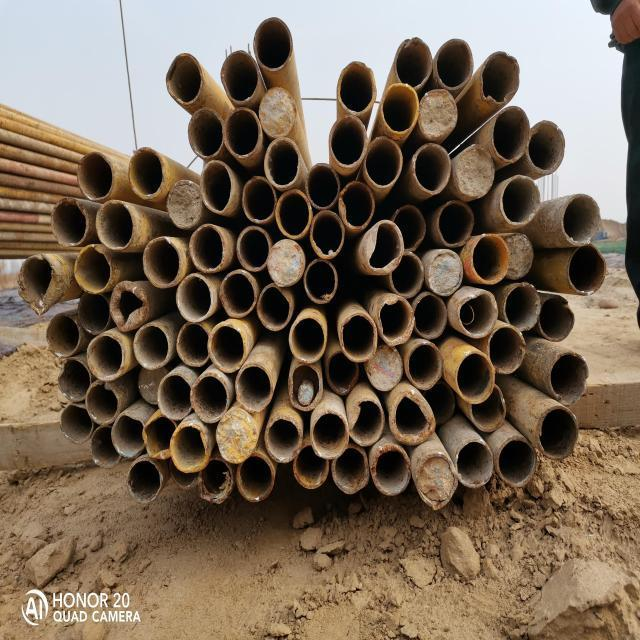pipe: (215, 407, 258, 464), (18, 254, 60, 311), (491, 106, 531, 163), (526, 119, 566, 176), (416, 454, 458, 508), (456, 144, 496, 200), (560, 194, 602, 247), (496, 434, 537, 488), (336, 60, 377, 114), (480, 50, 521, 104), (391, 392, 434, 443), (412, 142, 452, 196), (168, 423, 210, 474), (220, 50, 260, 103), (142, 237, 182, 290), (538, 405, 578, 458), (501, 174, 541, 227), (455, 351, 495, 404), (328, 114, 367, 168), (189, 374, 230, 425), (550, 350, 588, 405), (368, 216, 404, 274), (568, 244, 608, 296), (436, 38, 474, 92), (96, 199, 135, 251), (330, 444, 370, 494), (418, 89, 457, 140), (254, 18, 292, 70), (208, 321, 246, 373), (395, 37, 432, 90), (458, 290, 498, 339), (128, 148, 166, 199), (364, 136, 402, 187), (208, 321, 245, 373), (234, 364, 274, 412), (372, 446, 412, 494), (473, 232, 509, 285), (188, 108, 226, 158), (222, 108, 260, 158), (258, 86, 296, 136), (382, 82, 417, 136), (166, 52, 203, 103), (49, 198, 88, 246), (110, 282, 148, 331), (455, 439, 493, 488), (189, 223, 226, 273), (338, 180, 375, 230), (340, 314, 377, 364), (488, 325, 525, 375), (196, 454, 234, 502), (237, 454, 275, 502), (274, 190, 312, 238), (504, 282, 542, 330), (365, 342, 403, 390), (75, 244, 111, 294), (288, 317, 328, 362), (265, 416, 303, 463), (311, 412, 349, 459), (471, 381, 506, 432), (77, 152, 114, 200), (176, 276, 213, 324), (265, 138, 300, 188), (408, 341, 443, 391), (537, 296, 575, 342), (158, 372, 194, 420), (288, 363, 324, 411), (388, 250, 424, 298), (379, 296, 414, 345), (256, 284, 294, 329), (167, 180, 201, 230), (201, 160, 233, 213), (88, 334, 124, 381), (236, 225, 272, 272), (294, 441, 329, 489), (498, 230, 533, 278), (132, 326, 170, 370), (220, 270, 256, 316), (438, 201, 474, 247), (350, 396, 383, 446), (267, 240, 304, 284), (126, 458, 162, 503), (110, 413, 146, 458), (305, 163, 339, 210), (175, 322, 212, 365), (242, 176, 276, 222), (304, 258, 338, 304), (310, 210, 344, 256), (414, 294, 448, 340), (326, 350, 360, 396), (142, 416, 179, 458), (394, 204, 426, 252), (428, 248, 460, 296), (77, 290, 111, 335), (46, 312, 80, 357), (57, 357, 91, 401), (86, 382, 121, 424), (59, 402, 93, 444), (422, 381, 454, 425), (90, 425, 123, 467), (136, 364, 169, 406), (169, 448, 202, 489)
